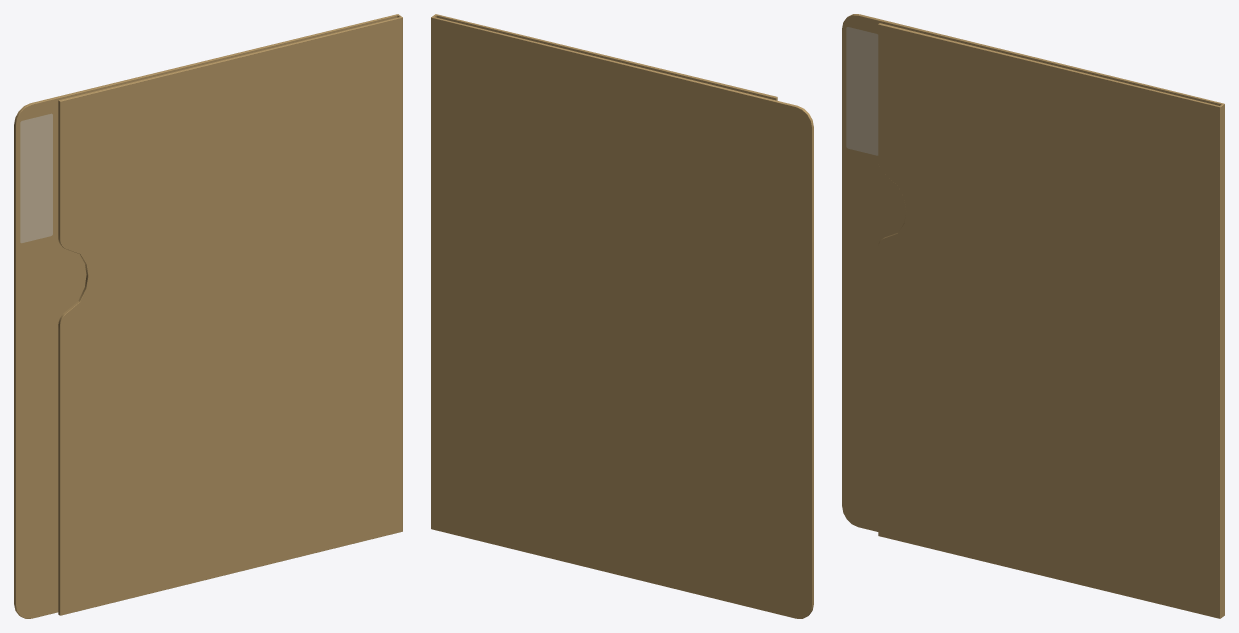
3 renders of one model, left to right at view 1: azimuth 30°, elevation 25°; view 2: azimuth 150°, elevation 25°; view 3: azimuth 330°, elevation 25°, orthographic.
Parts seen in each view (by area): view 1: File; view 2: File; view 3: File.
Part boxes in pixels (x1,y1,x2,y2): File: (14,14,402,618); File: (431,14,813,618); File: (842,14,1224,618).
Size of the model in its own units: 49.65 by 63.59 by 1.31.
